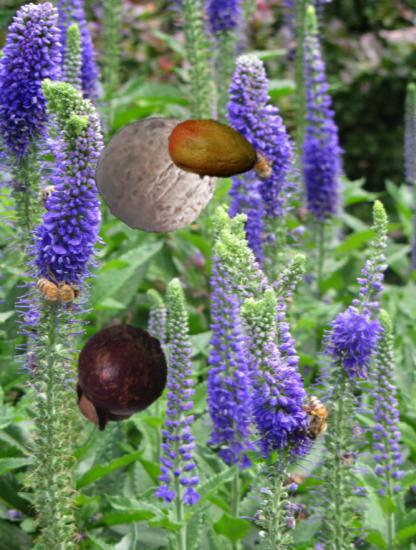Mangostan: (63, 319, 173, 429)
Papaya: (166, 104, 260, 198)
Walnut: (98, 113, 220, 235)
